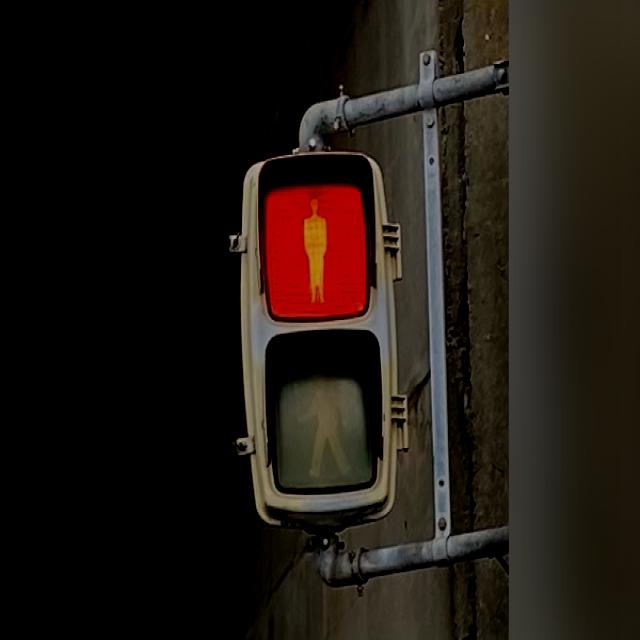trafficlight: (238, 155, 399, 523)
